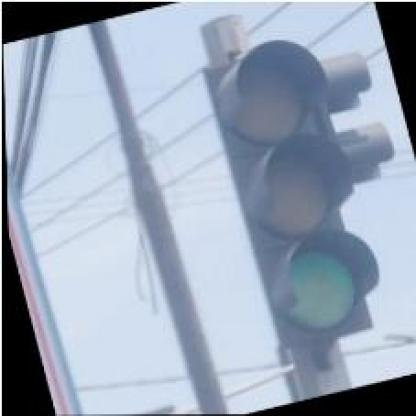green: (198, 30, 392, 355)
